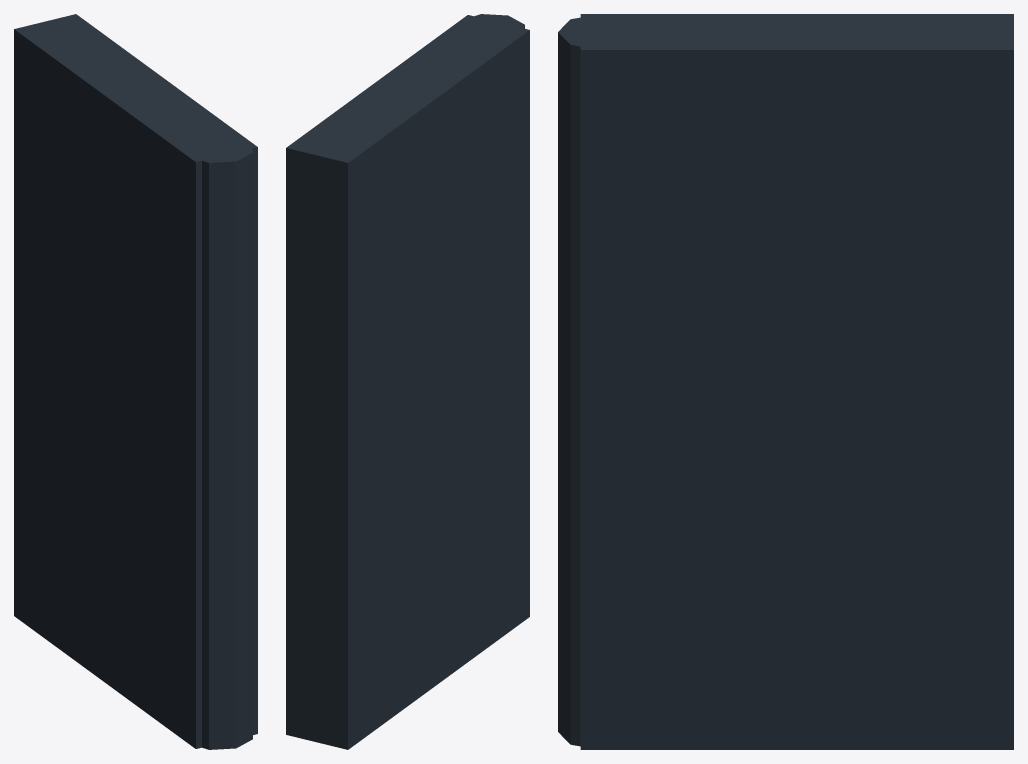
Rendered from rudder_pivot.glb.
3 views of the same model, side by side, from view 1: azimuth 30°, elevation 25°; view 2: azimuth 150°, elevation 25°; view 3: azimuth 270°, elevation 25° (orthographic). The views are drawn at different scales.
Visible parts, largest first — view 1: rudder, rudder_hinge; view 2: rudder, rudder_hinge; view 3: rudder, rudder_hinge.
Boxes of the visible parts, x1,y1,x2,y2 form: rudder: (14,14,257,748); rudder_hinge: (184,139,252,749); rudder: (286,15,529,749); rudder_hinge: (456,14,524,42); rudder: (580,14,1013,749); rudder_hinge: (558,14,641,746).
Size of the model in its own units: 0.11 by 0.9944 by 0.5871.
